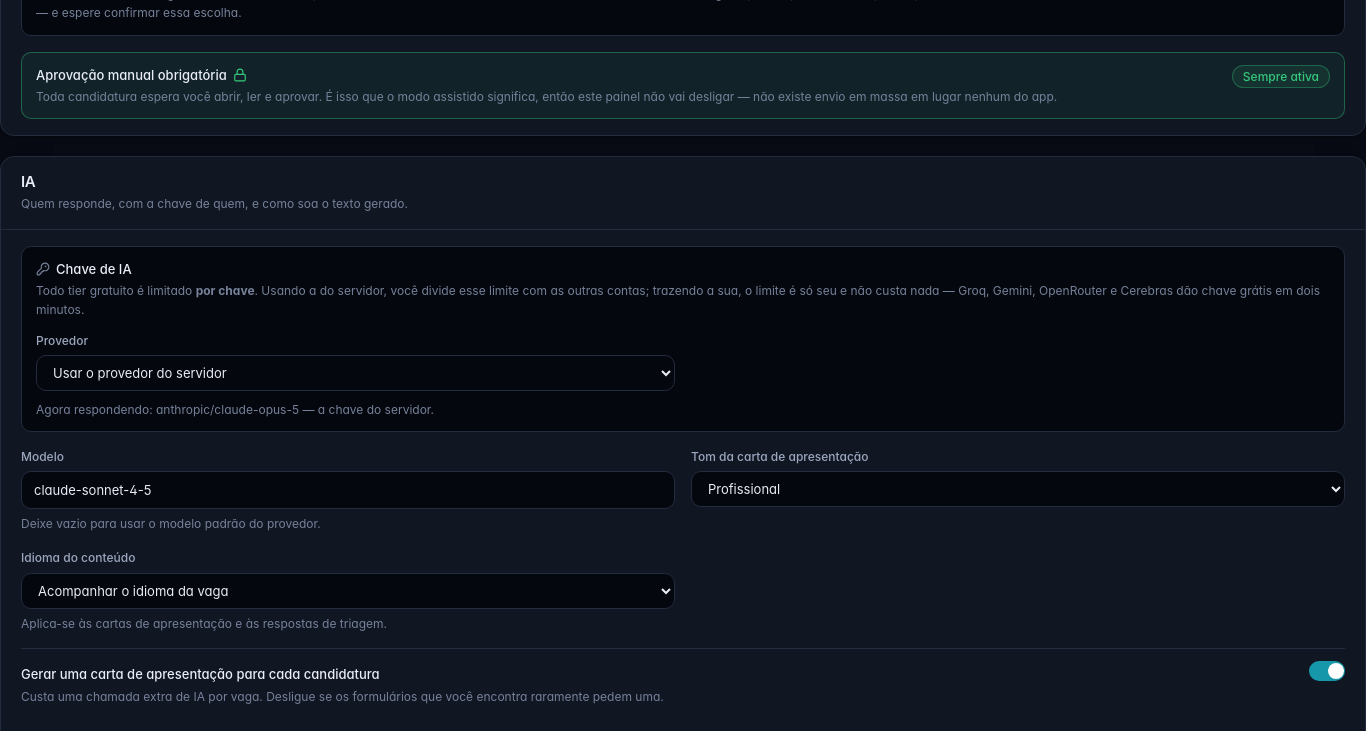
Test: the AI key an account brings › shows the provider's own words when a key is rejected
(page scrolled)
Select "Groq" in the dropdown labelled "Provedor": coordinates (356, 373) [36, 355, 675, 391]
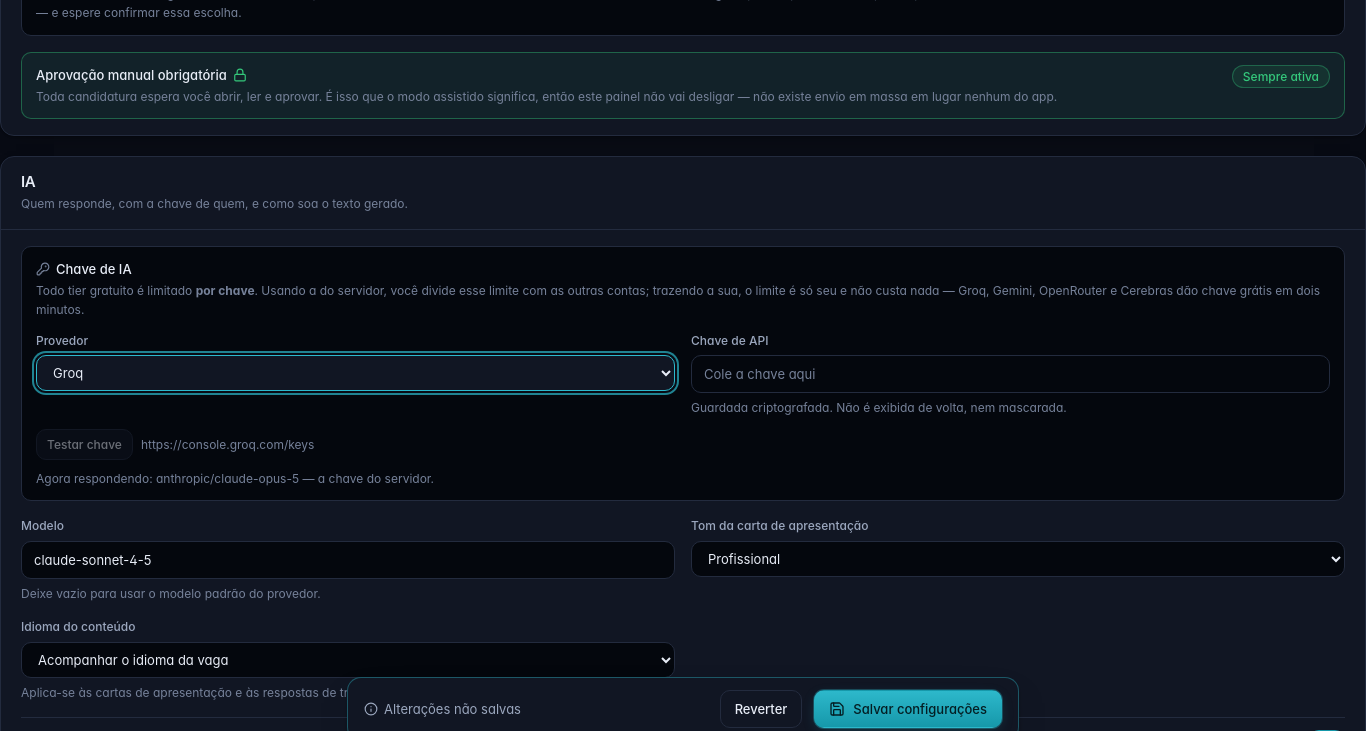
In the password field labelled "Chave de API": coordinates (1010, 374) [691, 355, 1330, 393], type "wrong"
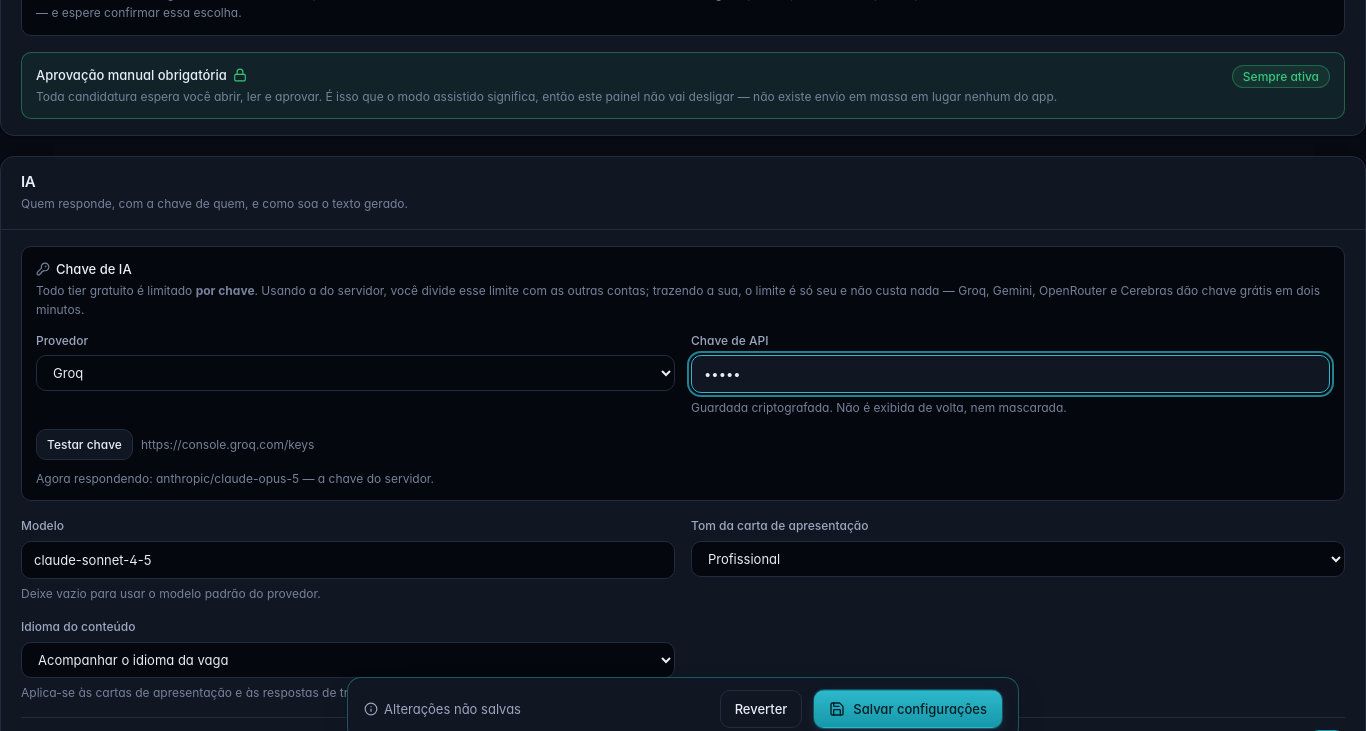
Click the button "Testar chave": coordinates (84, 445) [36, 429, 133, 460]
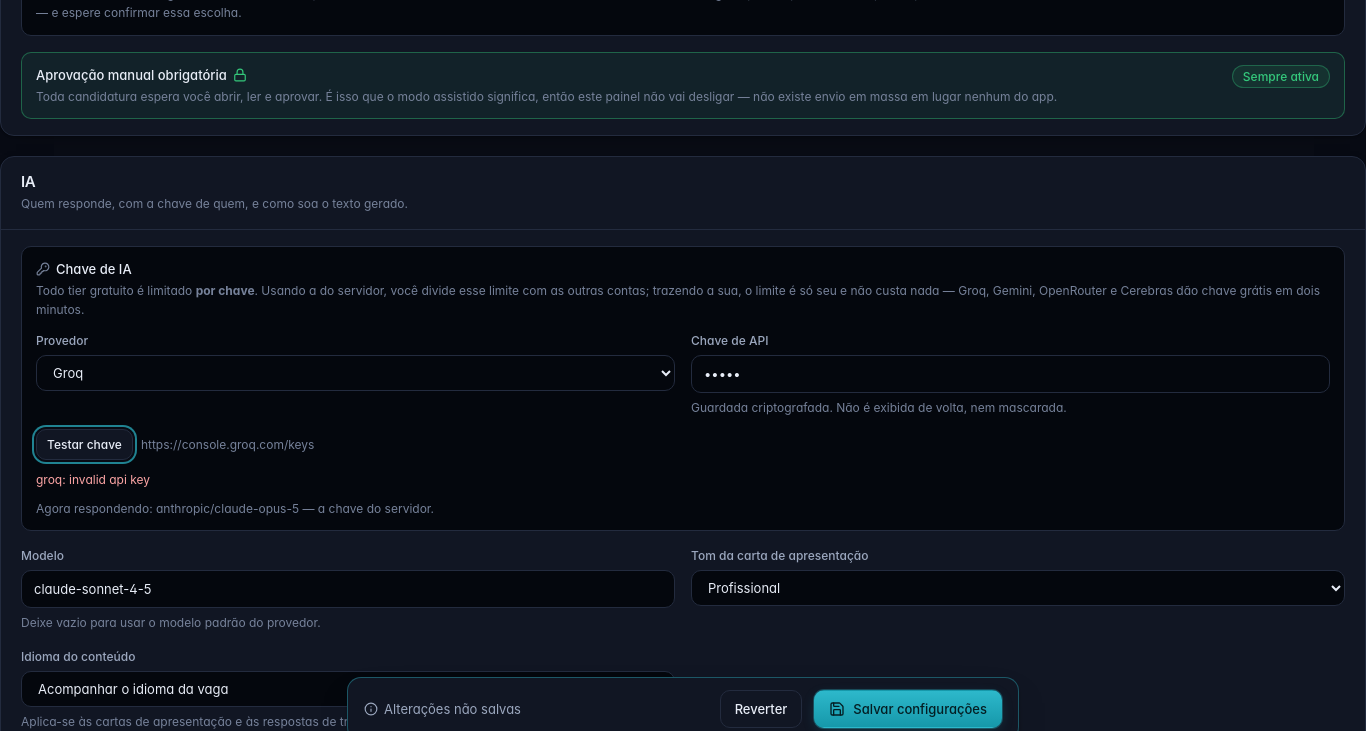
Result: the text "groq: invalid api key" is shown at [36, 472, 150, 487]
